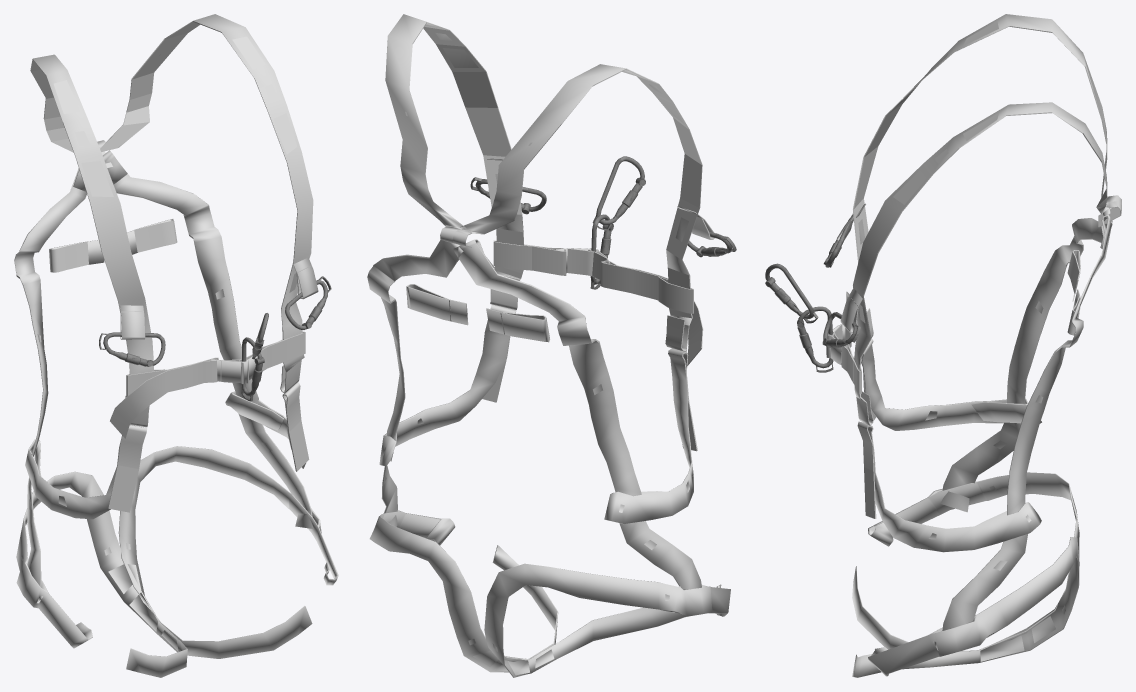
The model's file is mosquetones (1).fbx.
3 views of the same model, side by side, from view 1: azimuth 30°, elevation 25°; view 2: azimuth 150°, elevation 25°; view 3: azimuth 270°, elevation 25° (orthographic). The views are drawn at different scales.
Parts seen in each view (by area): view 1: ArnesCentrado1:MAT_webbing005, ArnesCentrado1:MAT_webbing006, mosquetones003, mosquetones002, mosquetones001; view 2: ArnesCentrado1:MAT_webbing005, mosquetones004, mosquetones001, mosquetones003, mosquetones002; view 3: ArnesCentrado1:MAT_webbing005, mosquetones004, ArnesCentrado1:MAT_webbing006, mosquetones001, mosquetones002.
Boxes of the visible parts, x1,y1,x2,y2 form: ArnesCentrado1:MAT_webbing005: (14, 14, 338, 677); ArnesCentrado1:MAT_webbing006: (120, 257, 318, 339); mosquetones003: (99, 332, 165, 366); mosquetones002: (285, 276, 331, 329); mosquetones001: (241, 337, 264, 401); ArnesCentrado1:MAT_webbing005: (367, 14, 730, 677); mosquetones004: (592, 156, 645, 230); mosquetones001: (590, 214, 613, 289); mosquetones003: (687, 231, 736, 257); mosquetones002: (470, 177, 546, 214); ArnesCentrado1:MAT_webbing005: (826, 14, 1121, 677); mosquetones004: (765, 263, 818, 323); ArnesCentrado1:MAT_webbing006: (836, 203, 865, 332); mosquetones001: (797, 306, 833, 372); mosquetones002: (822, 312, 860, 347).
Size of the model in its own units: 77.14 by 146 by 78.45.
2 materials, 1 textured.
